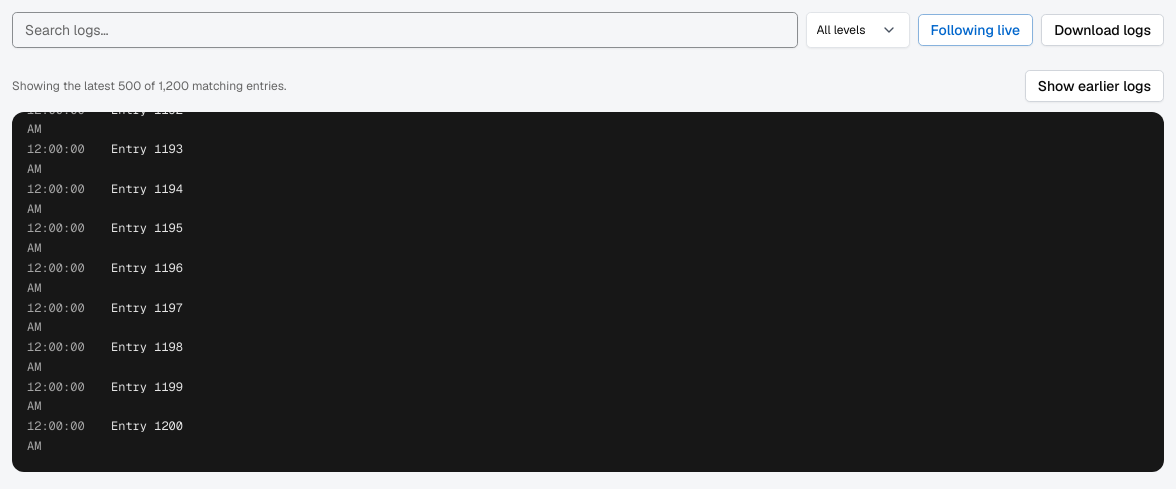
Test case: log viewer › searches the full history, combines level filters and explains empty results
The image size is (1176, 489).
(page scrolled)
Select "Errors" in the dropdown named "Filter Process logs by level" at x=858, y=30, box [806,12,910,48]
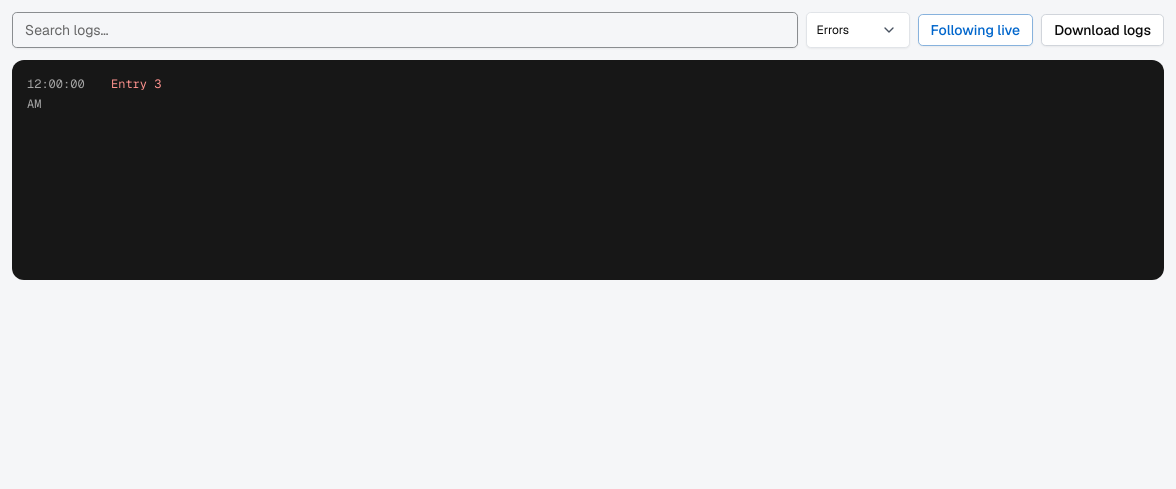
Result: the text "Entry 3" is shown at [111,76,161,92]
Result: the number of elements with class "log-line" is 1 at [27,76,161,112]
Type "missing" into the search field named "Search Process logs" at x=405, y=30, box [12,12,798,48]
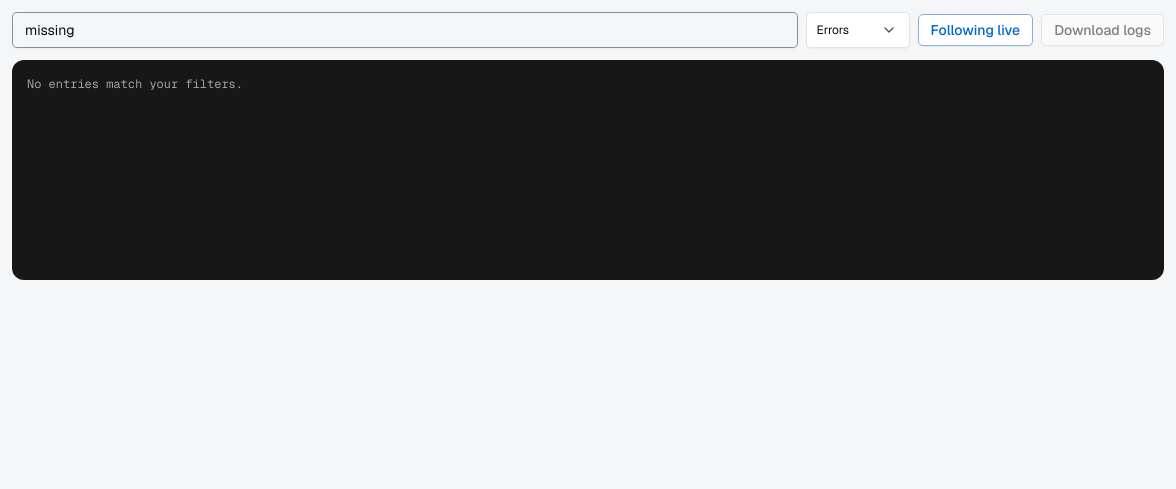
Result: the text "No entries match your filters." is shown at [27,76,243,92]
Result: the button "Download logs" is disabled at [1041,14,1164,46]
